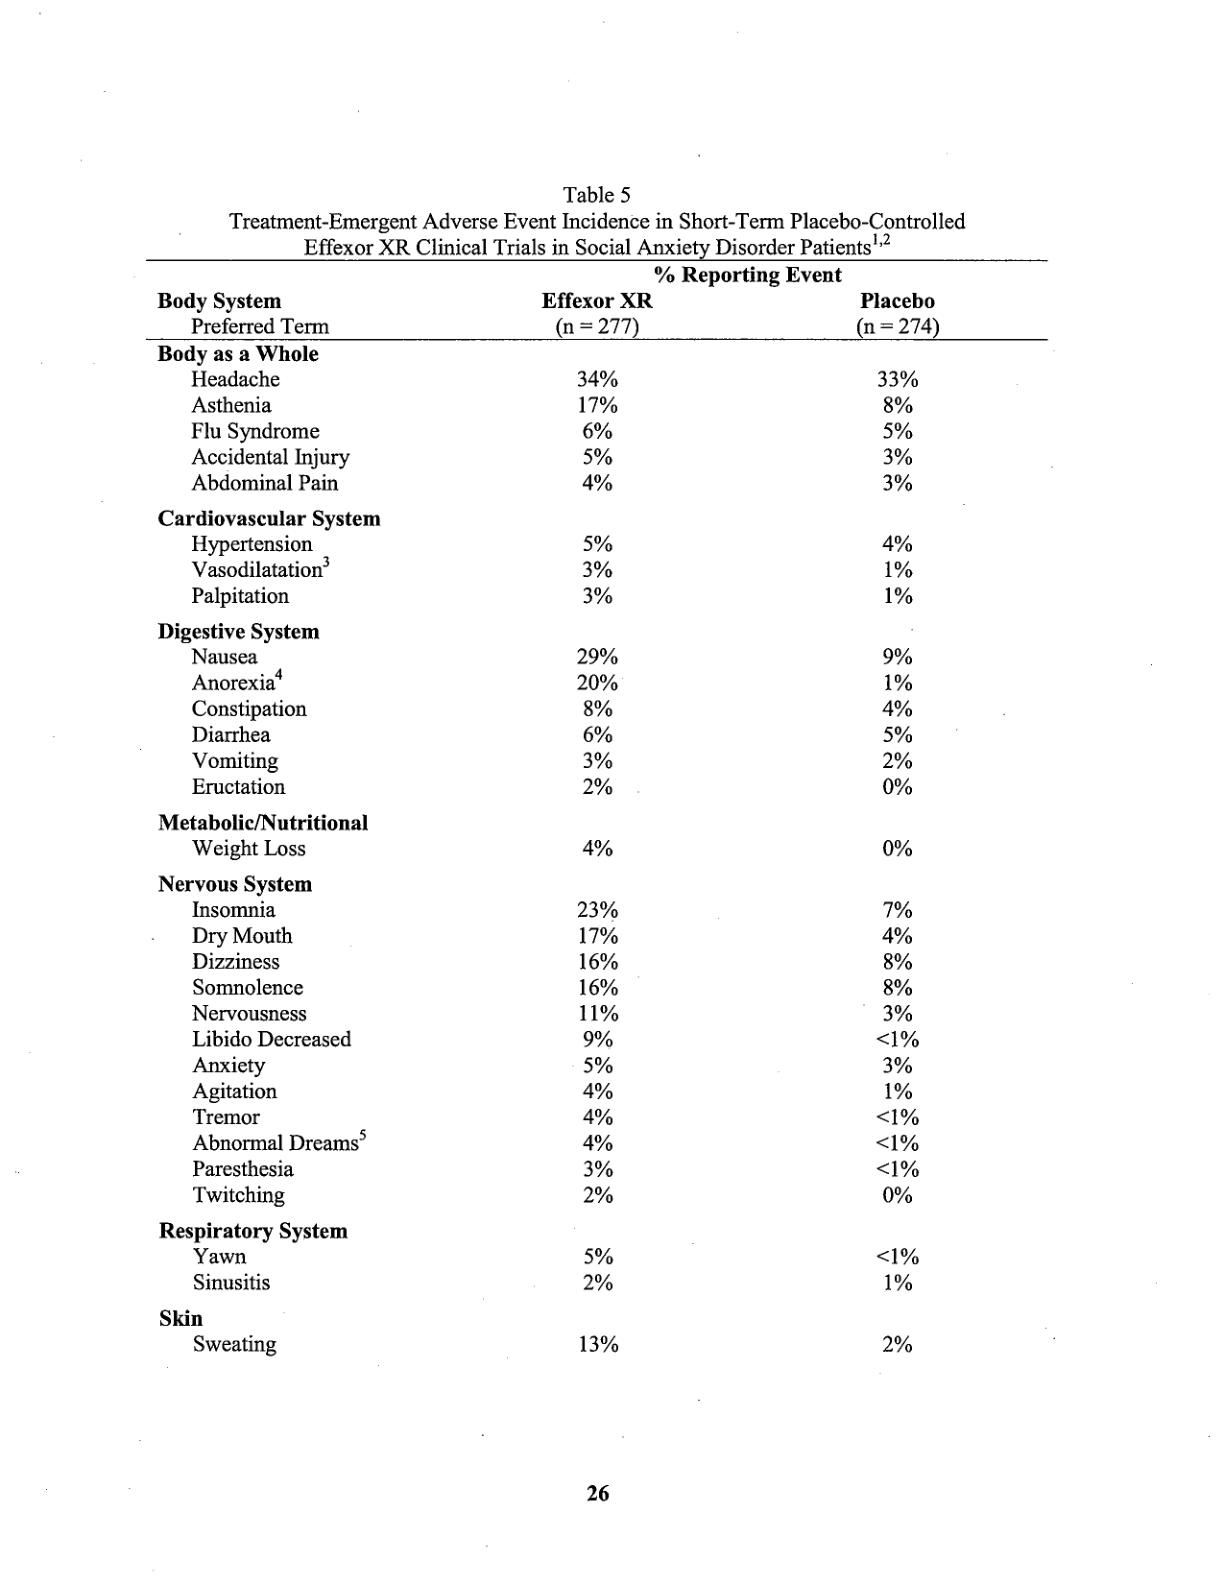partial_lined_merged_cells: (143, 258, 1048, 1362)
